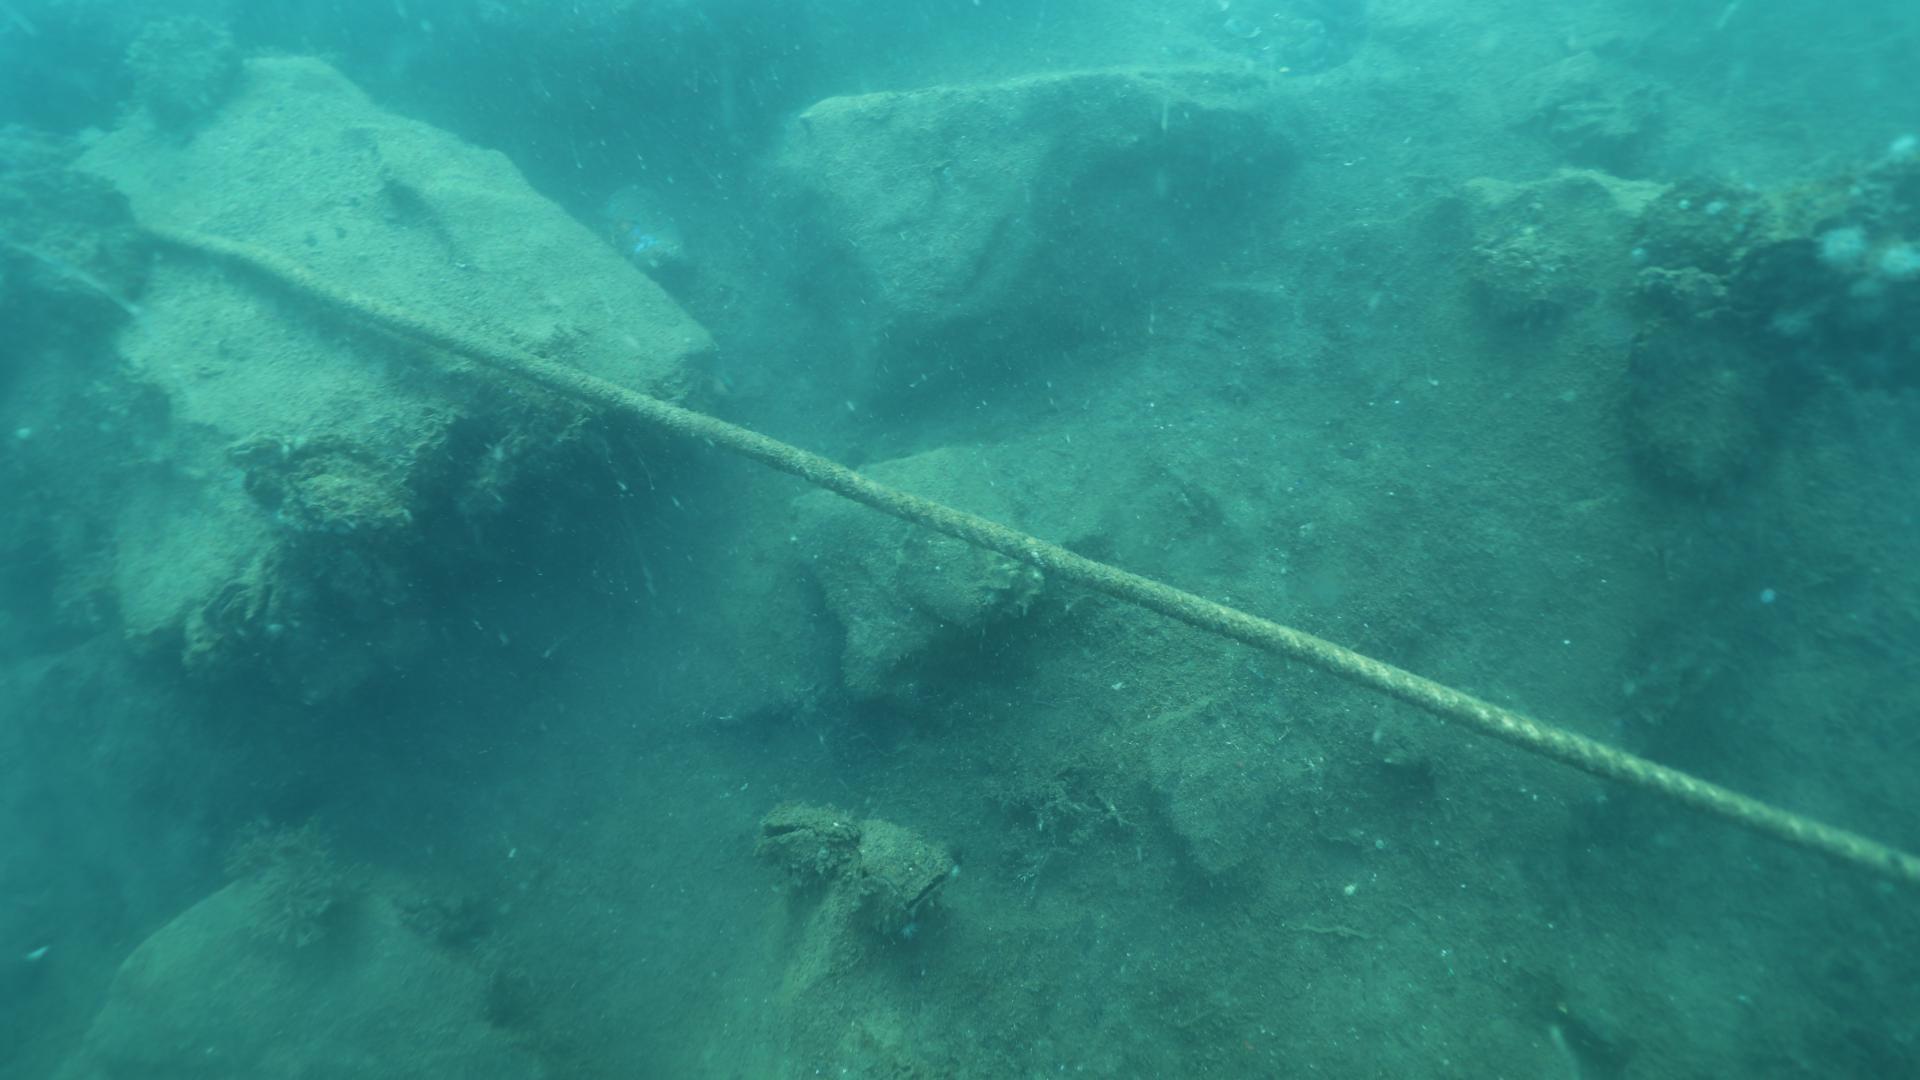rope: (131, 215, 1920, 895)
